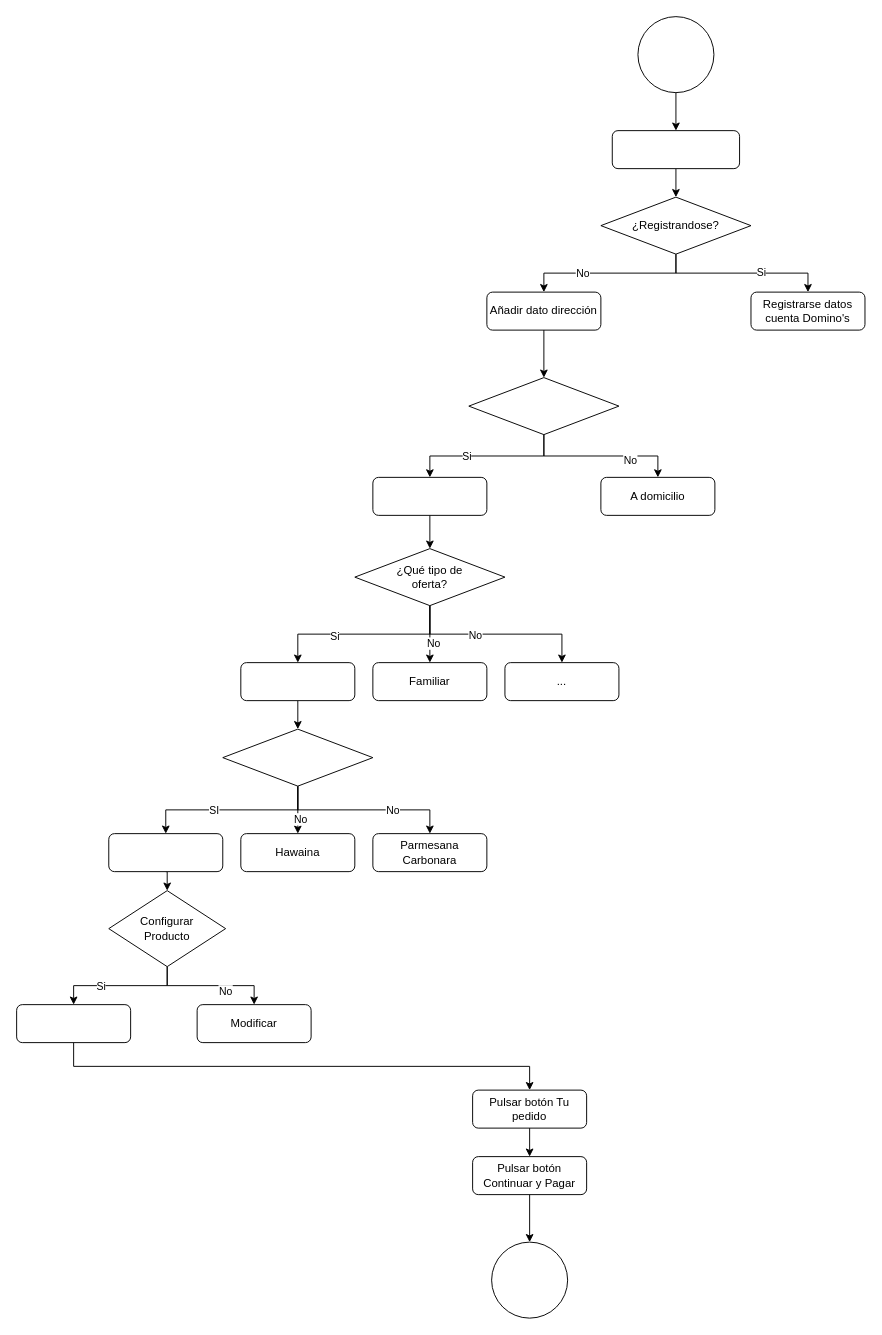
This 882x1335 diagram has some shape labels left out. Here are the shapes that lost their labels. From the top down, the box of each, then its label:
(611, 130, 740, 169): Pulsar botón -> Iniciar pedido
(468, 377, 619, 435): ¿A domicilio o Recoger?
(372, 476, 487, 515): A Recoger
(240, 662, 355, 701): Mediana
(222, 728, 373, 786): ¿Sabor?
(108, 833, 223, 872): Margarita
(16, 1004, 131, 1043): Añadir
